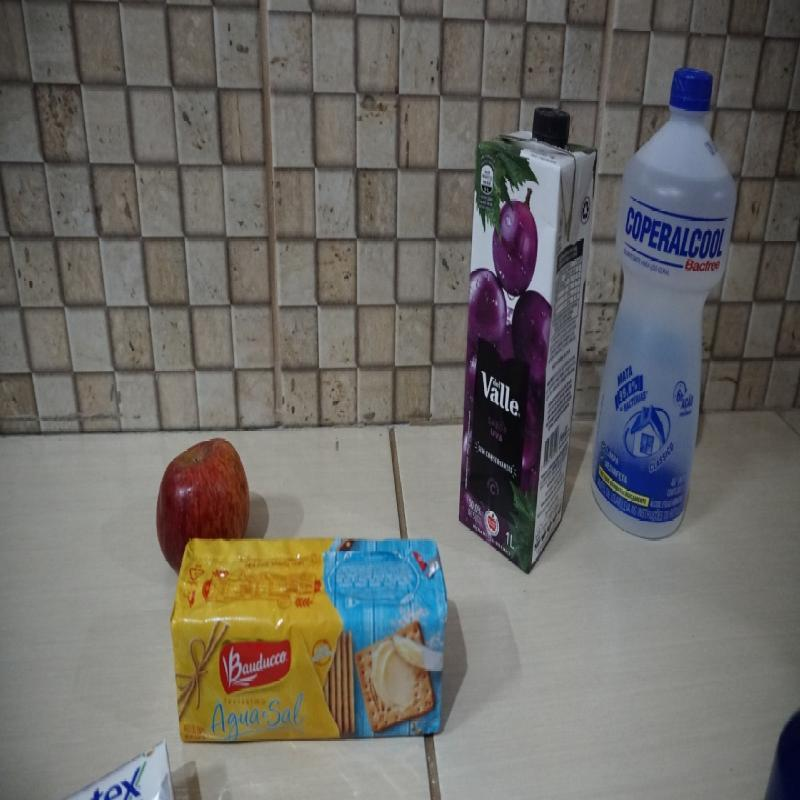Alcohol Bottle: (590, 67, 737, 542)
Apple: (156, 436, 253, 580)
Cracker: (169, 537, 450, 744)
Soap: (60, 740, 182, 800)
